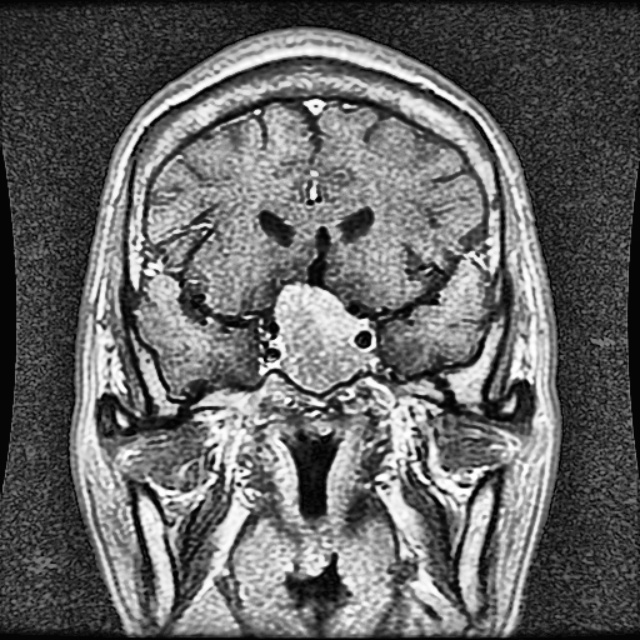Pituitary: (278, 285, 358, 388)
